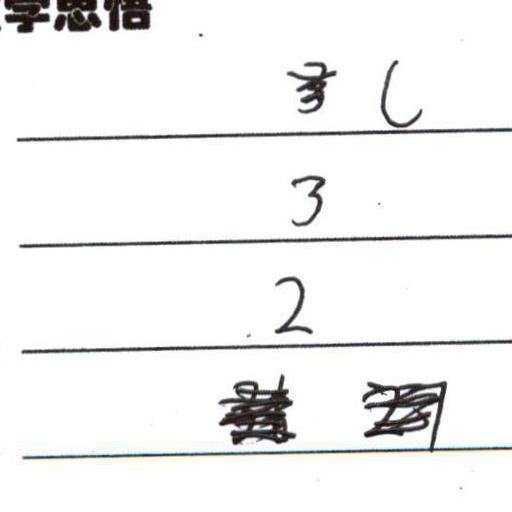ans: (374, 55, 425, 131), (271, 275, 315, 336), (287, 171, 327, 228)
